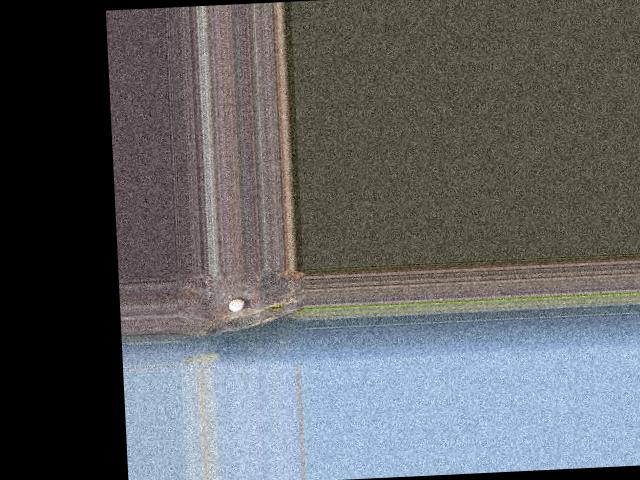egg: (227, 298, 244, 311)
